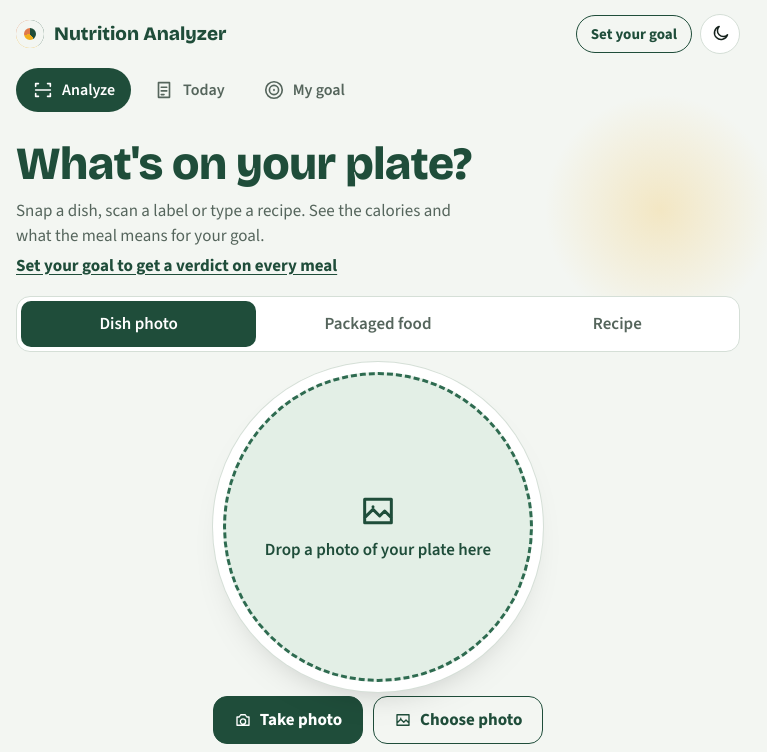
it: Nutrition Analyzer UI › saves a goal, shows the daily plan and then judges meals against it
This screenshot has width=767, height=752.
Click the button "Set your goal" at (634, 34), box [576,15,692,53]
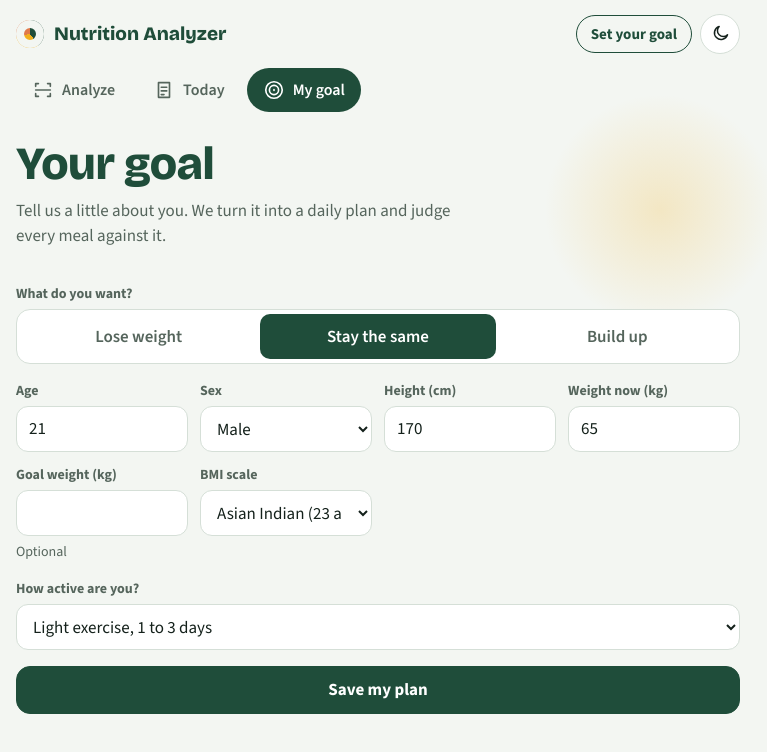
Click the button "Lose weight" at (139, 336), box [21,314,256,359]
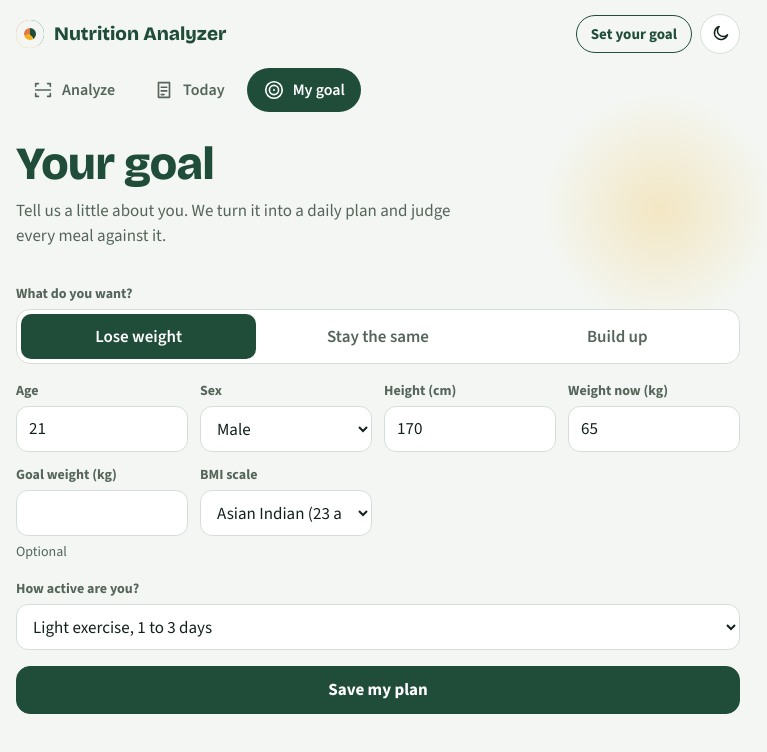
Click the button "Save my plan" at (378, 690), box [16,666,740,714]
(page scrolled)
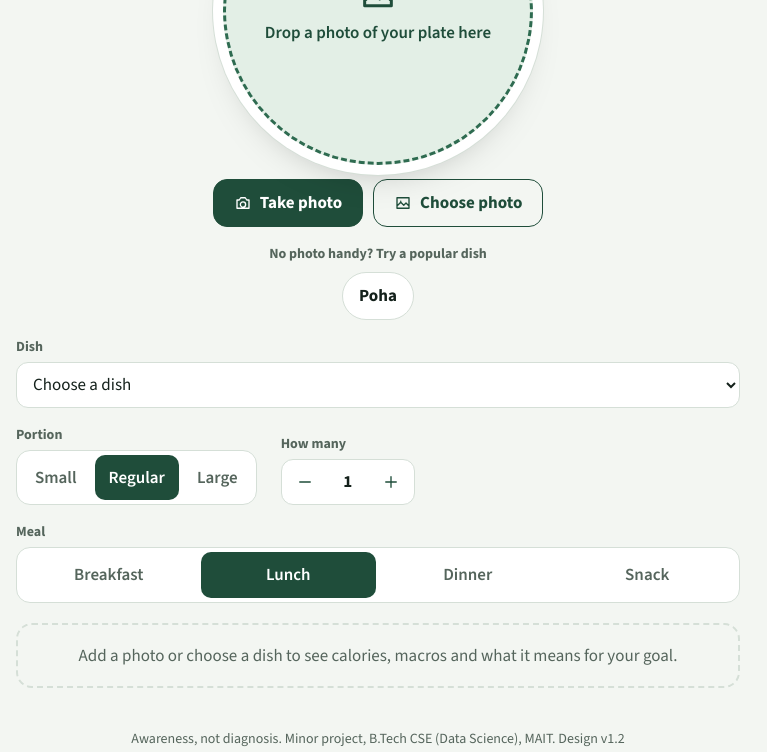
Select "Poha" in the dropdown at (378, 384), box [16,362,740,408]
(page scrolled)
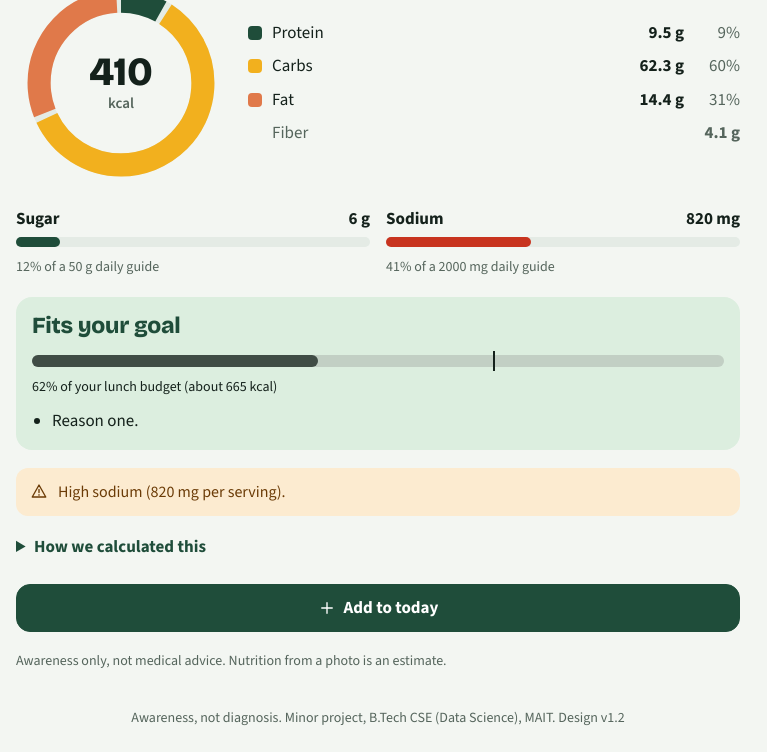
Check: the heading "Fits your goal" is shown, box [32,312,180,339]
Check: the text "62% of your lunch budget (about 665 kcal)" is shown, box [32,377,277,396]
Check: the text "High sodium (820 mg per serving)." is shown, box [58,480,286,504]
